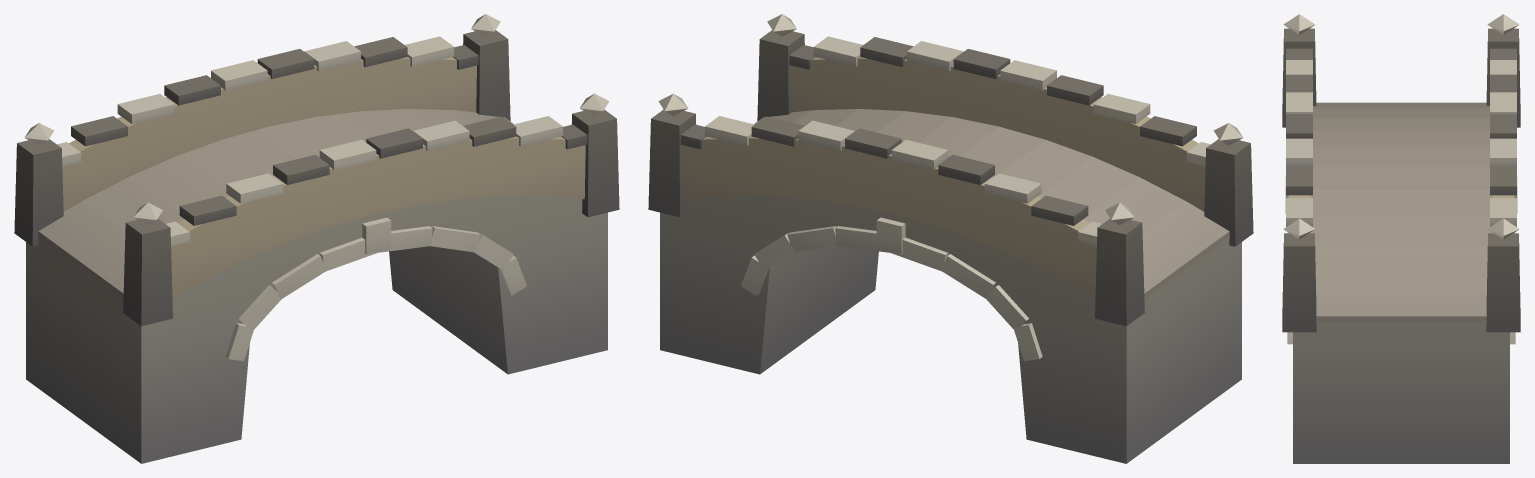
File: bridge_stone.glb
3 renders of one model, left to right at view 1: azimuth 30°, elevation 25°; view 2: azimuth 150°, elevation 25°; view 3: azimuth 270°, elevation 25°, orthographic. The views are drawn at different scales.
Visible parts, largest first — view 1: bridge_stone; view 2: bridge_stone; view 3: bridge_stone.
Part boxes in pixels (x1,y1,x2,y2): bridge_stone: (14, 14, 619, 463); bridge_stone: (648, 14, 1253, 463); bridge_stone: (1282, 14, 1520, 463).
Size of the model in its own units: 28.7 by 14.92 by 13.2.
Materials: 1 (1 with a texture image).
